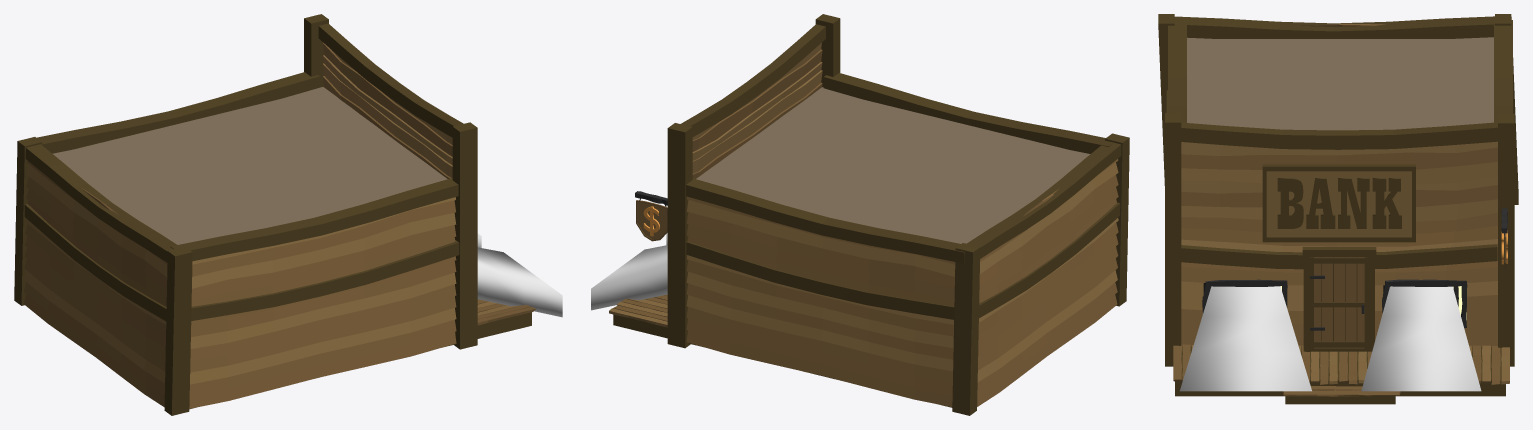
File: bank_001.glb
The picture shows the model from 3 angles, left to right: view 1: azimuth 30°, elevation 25°; view 2: azimuth 150°, elevation 25°; view 3: azimuth 270°, elevation 25°; orthographic projection. The views are drawn at different scales.
Parts seen in each view (by area): view 1: Cube.217, WindowLightShafts; view 2: Cube.217, WindowLightShafts; view 3: Cube.217, WindowLightShafts, DoorPanel, DoorFrame.
Part boxes in pixels (x1,y1,x2,y2): Cube.217: [14, 14, 535, 415]; WindowLightShafts: [477, 233, 562, 317]; Cube.217: [609, 14, 1129, 415]; WindowLightShafts: [591, 233, 667, 310]; Cube.217: [1158, 14, 1518, 404]; WindowLightShafts: [1180, 286, 1481, 391]; DoorPanel: [1310, 257, 1368, 348]; DoorFrame: [1302, 247, 1376, 351].
Bounding box in the file's own units: 12.42 × 6.5 × 8.71.
